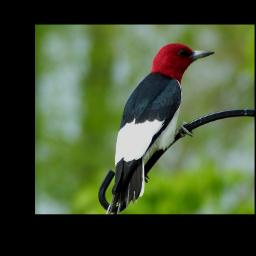Woodpecker: (103, 42, 217, 214)
